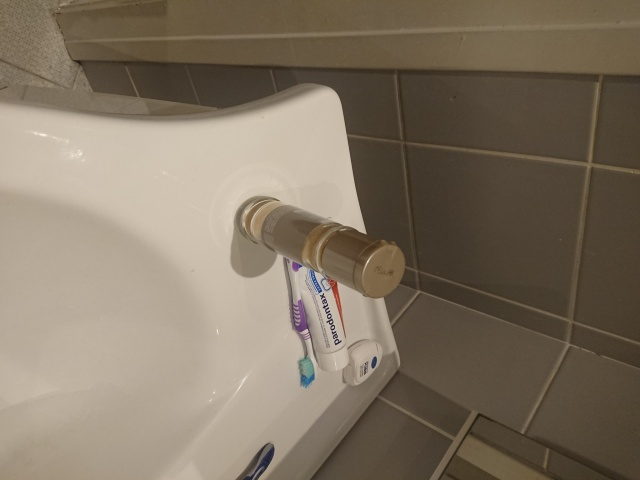Kotanyi Garlic Granules 70g: (233, 193, 407, 300)
